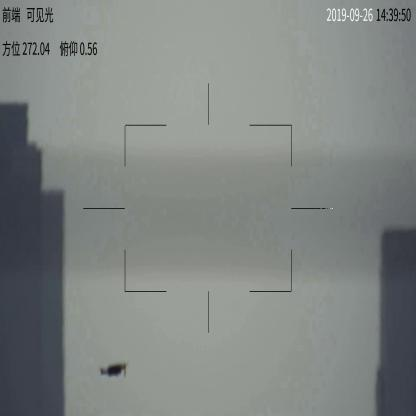uav: (98, 361, 133, 378)
